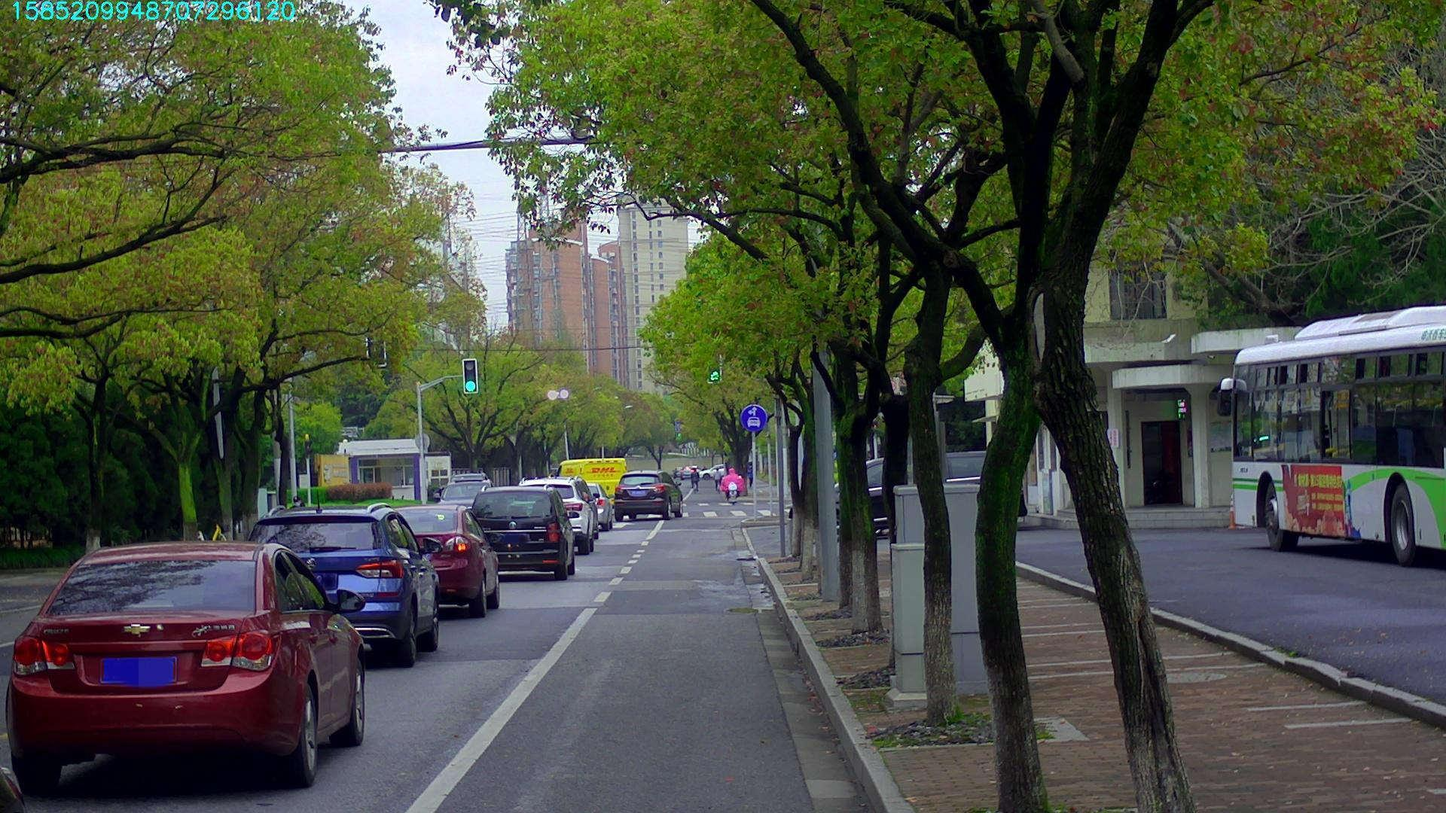green: (462, 359, 477, 392), (707, 357, 720, 382)
